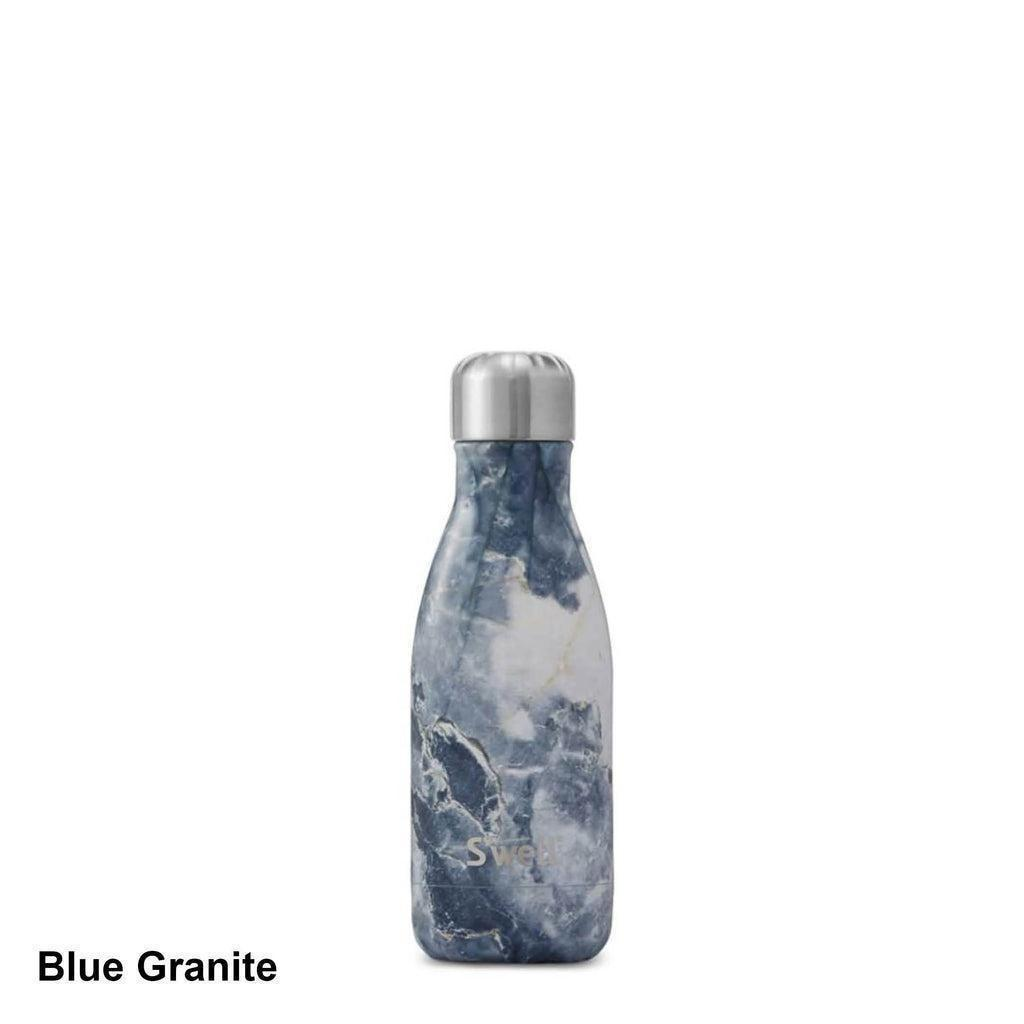gym bottle: (404, 346, 621, 970)
